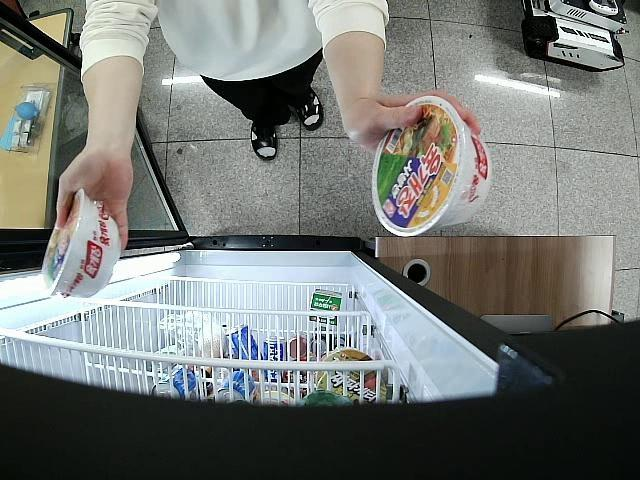09_yukGaeJang: (371, 96, 494, 237), (42, 188, 121, 300)
